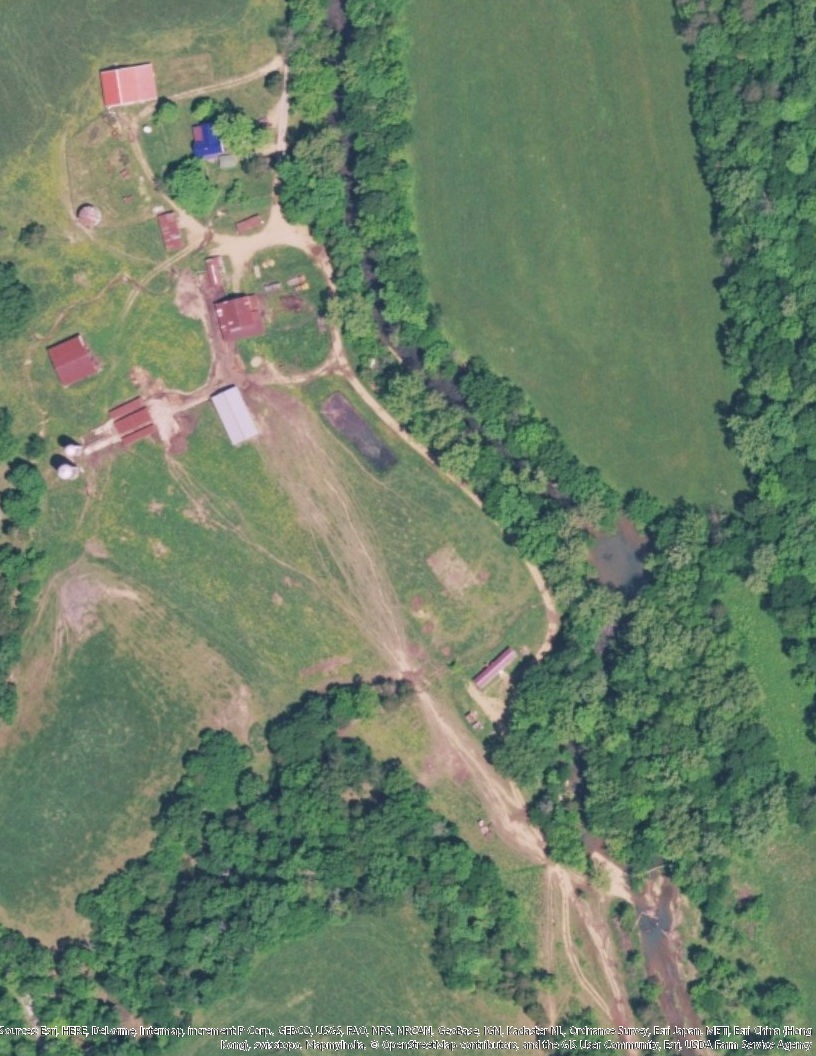cafo: (208, 378, 268, 448), (41, 332, 108, 390), (207, 290, 270, 345), (104, 398, 166, 446), (157, 208, 187, 250), (200, 256, 230, 295)
